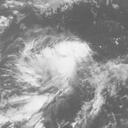cyclone: (19, 37, 86, 97)
